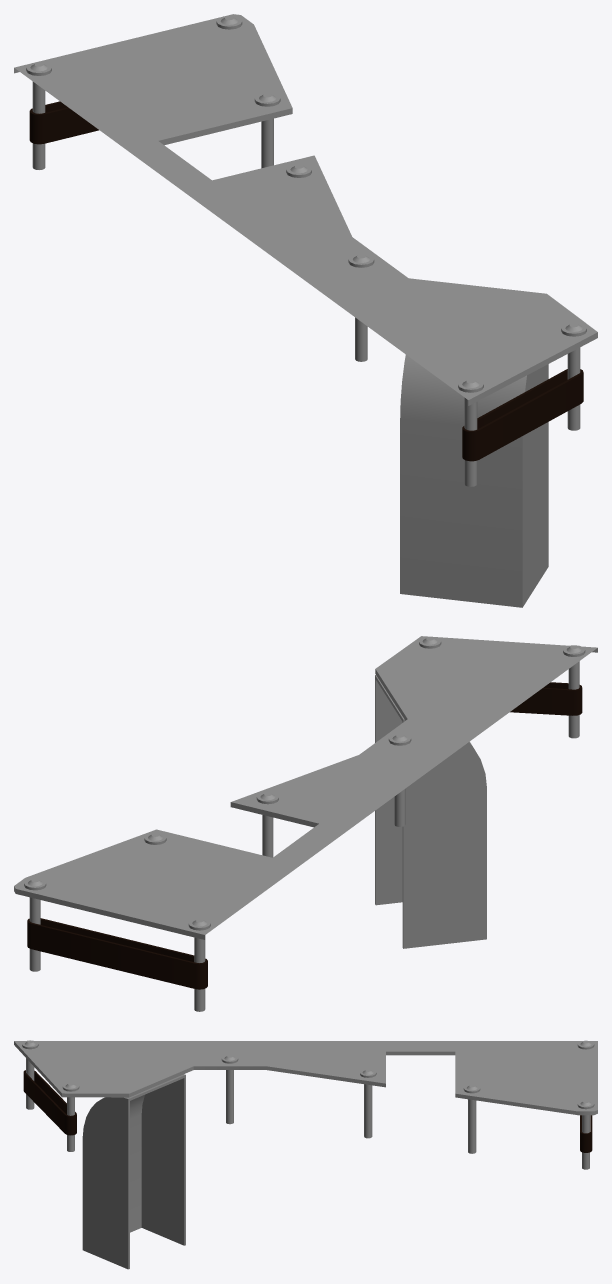
File: Suomuhauki Island.FBX
3 renders of one model, top to bottom at view 1: azimuth 30°, elevation 25°; view 2: azimuth 150°, elevation 25°; view 3: azimuth 270°, elevation 25°, orthographic. The views are drawn at different scales.
Parts seen in each view (by area): view 1: Cover, Kickout Hole, Plastic Rail012, Plastic Rail, Bolt018, Bolt, Bolt019, Bolt003, Bolt006; view 2: Cover, Kickout Hole, Plastic Rail, Plastic Rail012, Bolt018, Bolt001, Bolt, Bolt005, Bolt006; view 3: Cover, Kickout Hole, Plastic Rail012, Bolt003, Bolt005, Bolt006, Bolt019, Bolt001, Bolt018, Plastic Rail.
Boxes of the visible parts, x1,y1,x2,y2 form: Cover: [14, 14, 597, 405]; Kickout Hole: [400, 354, 548, 607]; Plastic Rail012: [462, 369, 583, 461]; Plastic Rail: [29, 101, 98, 144]; Bolt018: [458, 379, 483, 486]; Bolt: [26, 62, 51, 169]; Bolt019: [561, 323, 586, 430]; Bolt003: [254, 93, 280, 168]; Bolt006: [348, 254, 374, 361]; Cover: [14, 636, 597, 939]; Kickout Hole: [375, 675, 486, 948]; Plastic Rail: [27, 918, 207, 989]; Plastic Rail012: [510, 682, 582, 715]; Bolt018: [563, 645, 585, 738]; Bolt001: [24, 878, 46, 971]; Bolt: [188, 918, 210, 1011]; Bolt005: [256, 792, 278, 857]; Bolt006: [388, 734, 411, 826]; Cover: [14, 1041, 597, 1115]; Kickout Hole: [82, 1074, 185, 1269]; Plastic Rail012: [23, 1070, 76, 1135]; Bolt003: [463, 1084, 480, 1153]; Bolt005: [360, 1069, 376, 1138]; Bolt006: [221, 1055, 238, 1124]; Bolt019: [62, 1082, 79, 1151]; Bolt001: [577, 1100, 594, 1169]; Bolt018: [22, 1040, 38, 1109]; Plastic Rail: [580, 1115, 592, 1152].
Size of the model in its own units: 0.0799 by 0.095 by 0.2806.
